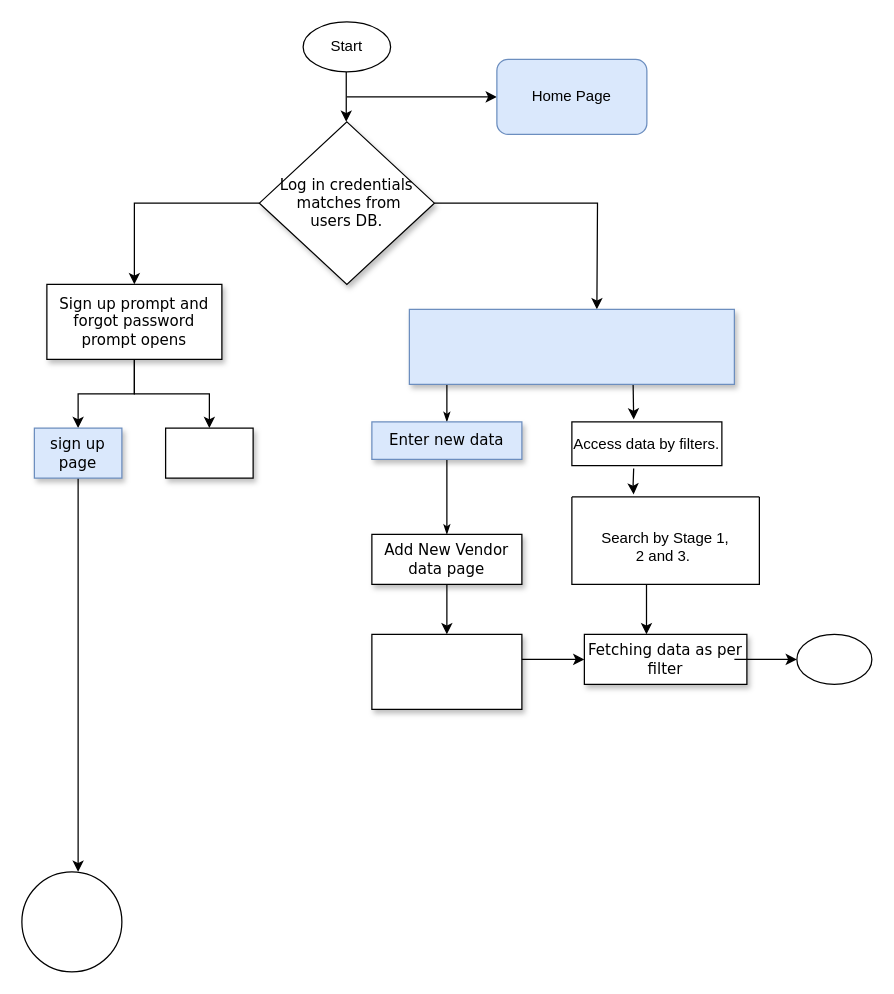
This 894x994 diagram has some shape labels left out. The shapes that lost their labels are listed below. From the top down, each one's centre as x and y in pixels, then its label:
the point at 572,348: User Page
the point at 210,454: Forgot Password
the point at 447,673: sends data to Alchemy Techsol Routing database
the point at 834,658: Logout
the point at 71,921: Admin Access
